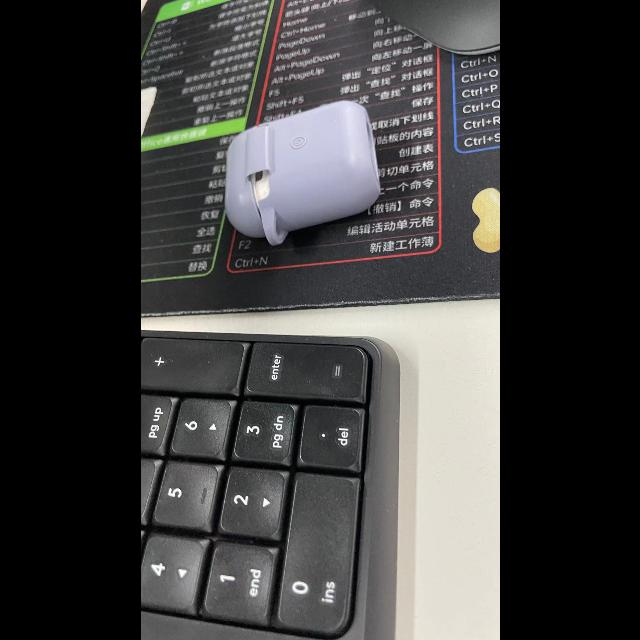airpods: (224, 101, 382, 247)
